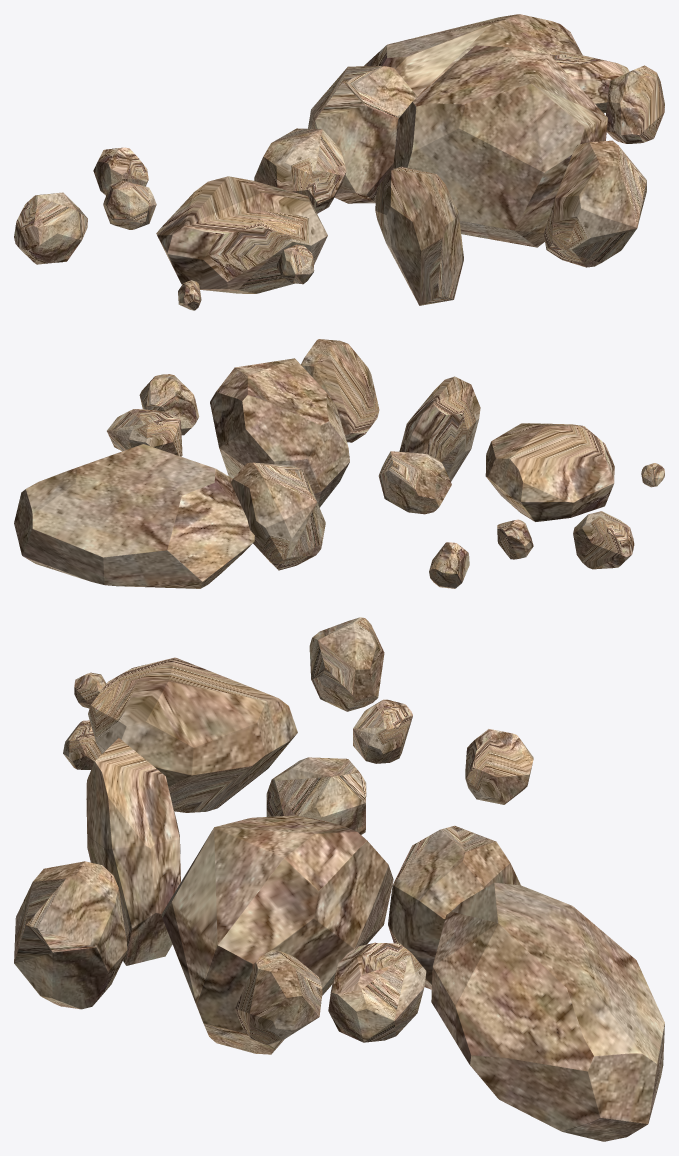
File: Beach_RocksLeft.fbx
The picture shows the model from 3 angles, top to bottom: view 1: azimuth 30°, elevation 25°; view 2: azimuth 150°, elevation 25°; view 3: azimuth 270°, elevation 25°; orthographic projection. The views are drawn at different scales.
Visible parts, largest first — view 1: Rock8.001, Rock1.001, Rock4.001, Rock13.001, Rock9.001, Rock10.001, Rock5.001, Rock11.001, Rock14.001, Rock2.001, Rock7.001, Rock6.001 (+2 smaller); view 2: Rock10.001, Rock8.001, Rock1.001, Rock9.001, Rock13.001, Rock4.001, Rock5.001, Rock11.001, Rock2.001, Rock14.001, Rock6.001, Rock7.001 (+1 smaller); view 3: Rock10.001, Rock8.001, Rock1.001, Rock13.001, Rock4.001, Rock9.001, Rock2.001, Rock14.001, Rock5.001, Rock11.001, Rock6.001, Rock7.001 (+2 smaller).
Part boxes in pixels (x1=…): Rock8.001: x1=393, y1=45, x2=607, y2=247; Rock1.001: x1=156, y1=176, x2=327, y2=293; Rock4.001: x1=543, y1=140, x2=646, y2=267; Rock13.001: x1=375, y1=166, x2=463, y2=305; Rock9.001: x1=308, y1=66, x2=417, y2=203; Rock10.001: x1=364, y1=14, x2=582, y2=96; Rock5.001: x1=254, y1=128, x2=346, y2=213; Rock11.001: x1=14, y1=192, x2=87, y2=264; Rock14.001: x1=606, y1=65, x2=664, y2=143; Rock2.001: x1=550, y1=51, x2=629, y2=112; Rock7.001: x1=103, y1=180, x2=156, y2=229; Rock6.001: x1=93, y1=147, x2=148, y2=195; Rock10.001: x1=14, y1=444, x2=254, y2=588; Rock8.001: x1=210, y1=358, x2=349, y2=507; Rock1.001: x1=485, y1=423, x2=614, y2=521; Rock9.001: x1=231, y1=462, x2=325, y2=570; Rock13.001: x1=399, y1=376, x2=480, y2=481; Rock4.001: x1=301, y1=339, x2=379, y2=442; Rock5.001: x1=378, y1=451, x2=451, y2=514; Rock11.001: x1=573, y1=511, x2=634, y2=569; Rock2.001: x1=107, y1=409, x2=182, y2=456; Rock14.001: x1=139, y1=374, x2=199, y2=435; Rock6.001: x1=429, y1=542, x2=469, y2=588; Rock7.001: x1=497, y1=519, x2=533, y2=559; Rock10.001: x1=431, y1=882, x2=664, y2=1141; Rock8.001: x1=161, y1=815, x2=393, y2=1054; Rock1.001: x1=88, y1=657, x2=297, y2=812; Rock13.001: x1=86, y1=738, x2=180, y2=965; Rock4.001: x1=14, y1=861, x2=127, y2=1009; Rock9.001: x1=388, y1=825, x2=520, y2=989; Rock2.001: x1=328, y1=942, x2=426, y2=1042; Rock14.001: x1=235, y1=949, x2=322, y2=1044; Rock5.001: x1=266, y1=757, x2=366, y2=834; Rock11.001: x1=309, y1=617, x2=384, y2=711; Rock6.001: x1=465, y1=729, x2=533, y2=804; Rock7.001: x1=353, y1=699, x2=412, y2=763.
Bounding box in the file's own units: 3911 × 1002 × 2662.
